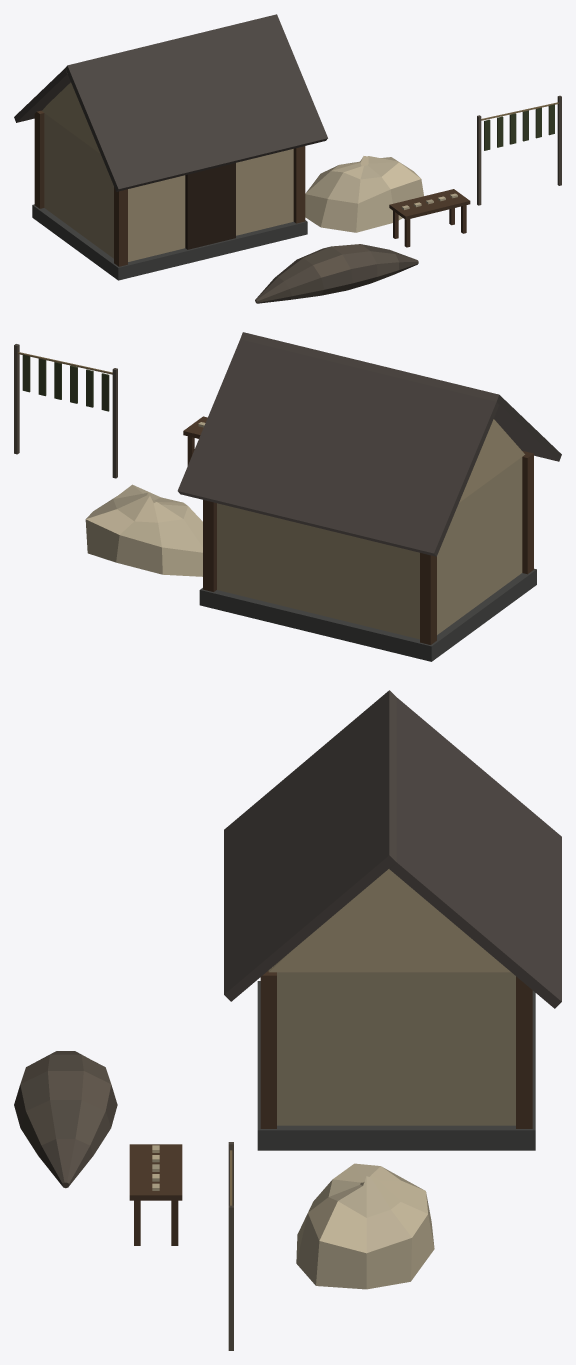
File: walk_hallowed_pearls.glb
The picture shows the model from 3 angles, top to bottom: view 1: azimuth 30°, elevation 25°; view 2: azimuth 150°, elevation 25°; view 3: azimuth 270°, elevation 25°; orthographic projection. The views are drawn at different scales.
Parts seen in each view (by area): view 1: walk_hallowed_pearls, walk_hallowed_pearls_roof; view 2: walk_hallowed_pearls, walk_hallowed_pearls_roof; view 3: walk_hallowed_pearls, walk_hallowed_pearls_roof.
Part boxes in pixels (left/top/right/bottom): walk_hallowed_pearls: left=32, top=82, right=561, bottom=303; walk_hallowed_pearls_roof: left=14, top=14, right=327, bottom=191; walk_hallowed_pearls: left=14, top=344, right=536, bottom=661; walk_hallowed_pearls_roof: left=177, top=332, right=561, bottom=556; walk_hallowed_pearls: left=14, top=869, right=535, bottom=1350; walk_hallowed_pearls_roof: left=224, top=690, right=561, bottom=1008.
Size of what is drawn, in the model's own units: 11.04 by 4.98 by 7.29.
1 material, 1 textured.
